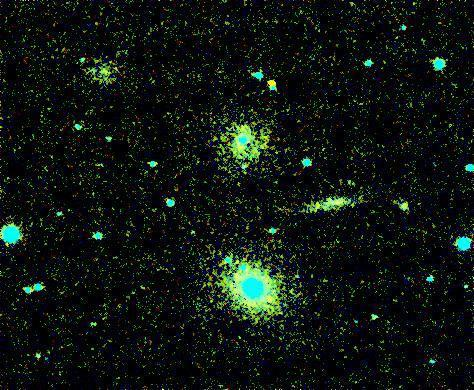star: (255, 66, 285, 96)
